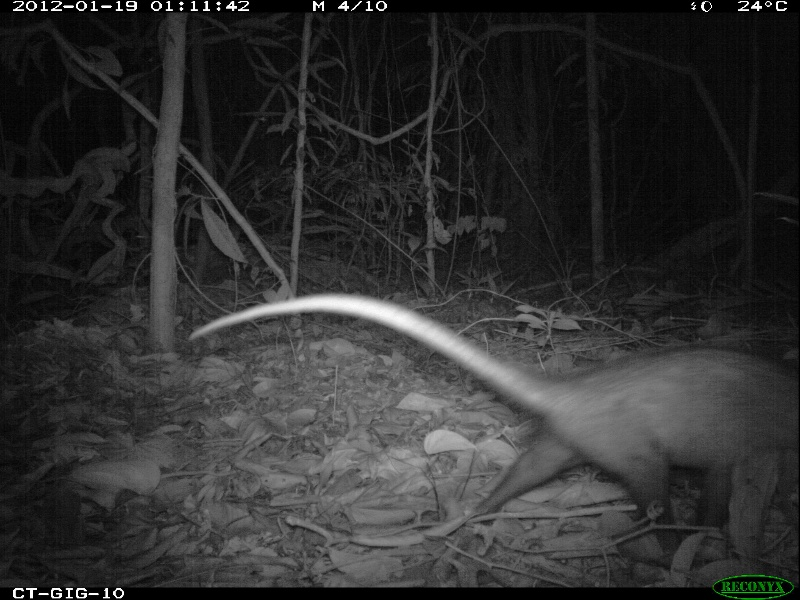opossum: (184, 287, 800, 559)
